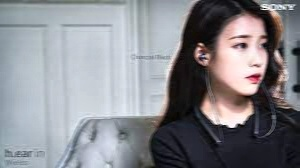earphone: (195, 42, 210, 67)
